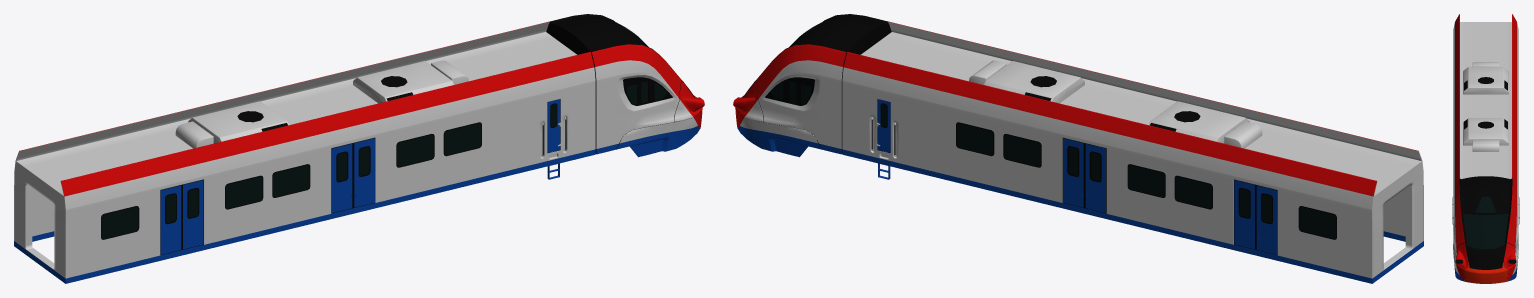
Rendered from Ivolga.obj.
3 renders of one model, left to right at view 1: azimuth 30°, elevation 25°; view 2: azimuth 150°, elevation 25°; view 3: azimuth 270°, elevation 25°, orthographic. The views are drawn at different scales.
Visible parts, largest first — view 1: Ivolga_train; view 2: Ivolga_train; view 3: Ivolga_train.
Part boxes in pixels (box(x1,y1,x2,y2)): Ivolga_train: box(14, 14, 704, 283); Ivolga_train: box(733, 14, 1423, 283); Ivolga_train: box(1452, 14, 1519, 283).
Bounding box in the file's own units: 23.47 × 4.06 × 3.31.
